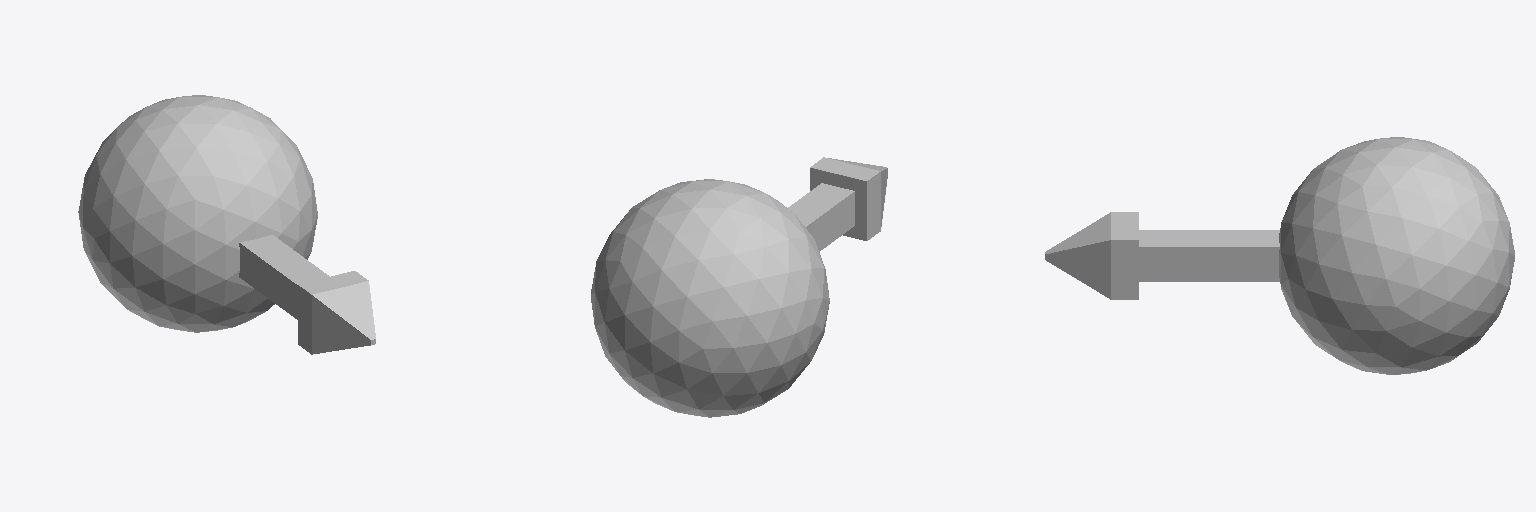
File: DirLightBall.obj
The picture shows the model from 3 angles: view 1: azimuth 30°, elevation 25°; view 2: azimuth 150°, elevation 25°; view 3: azimuth 270°, elevation 25°; orthographic projection.
Visible parts, largest first — view 1: Icosphere, Cube.001; view 2: Icosphere, Cube.001; view 3: Icosphere, Cube.001.
Boxes of the visible parts, <box> form: Icosphere: <box>78,95,317,332</box>; Cube.001: <box>239,235,375,354</box>; Icosphere: <box>591,179,829,417</box>; Cube.001: <box>788,157,887,251</box>; Icosphere: <box>1279,137,1514,374</box>; Cube.001: <box>1045,212,1279,299</box>.
Bounding box in the file's own units: 0.5 × 0.5 × 0.9815.